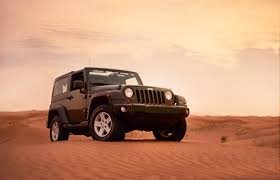mobil: (47, 66, 195, 143)
